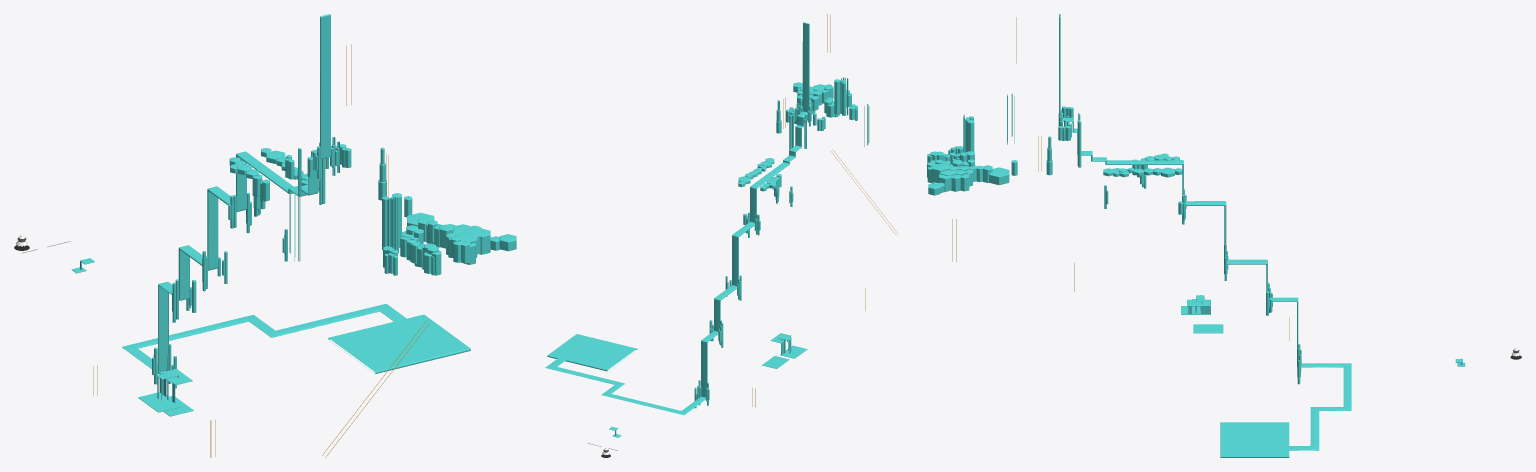
File: Level7.fbx
3 renders of one model, left to right at view 1: azimuth 30°, elevation 25°; view 2: azimuth 150°, elevation 25°; view 3: azimuth 270°, elevation 25°, orthographic. The views are drawn at different scales.
Visible parts, largest first — view 1: Water8, Water9, Water14; view 2: Water8, Water9; view 3: Water8, Water9.
Boxes of the visible parts, left/top/right/bottom form: Water8: left=122, top=14, right=406, bottom=374; Water9: left=328, top=314, right=470, bottom=373; Water14: left=138, top=392, right=182, bottom=412; Water8: left=545, top=22, right=809, bottom=415; Water9: left=547, top=334, right=637, bottom=371; Water8: left=1059, top=14, right=1351, bottom=450; Water9: left=1220, top=422, right=1289, bottom=457.
Size of what is drawn, in the model's own units: 193 by 254 by 376.
